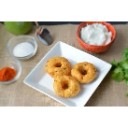vada: (54, 75, 80, 97), (45, 56, 70, 76), (72, 62, 95, 82)
